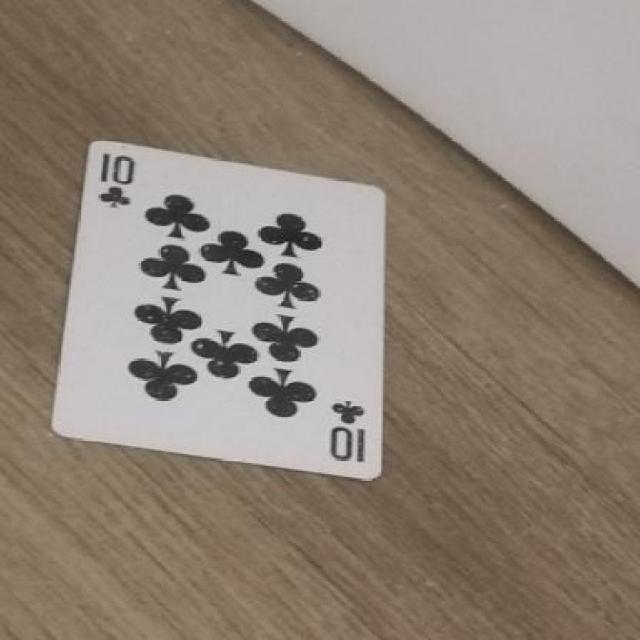10C: (317, 386, 374, 468), (92, 150, 145, 218)
